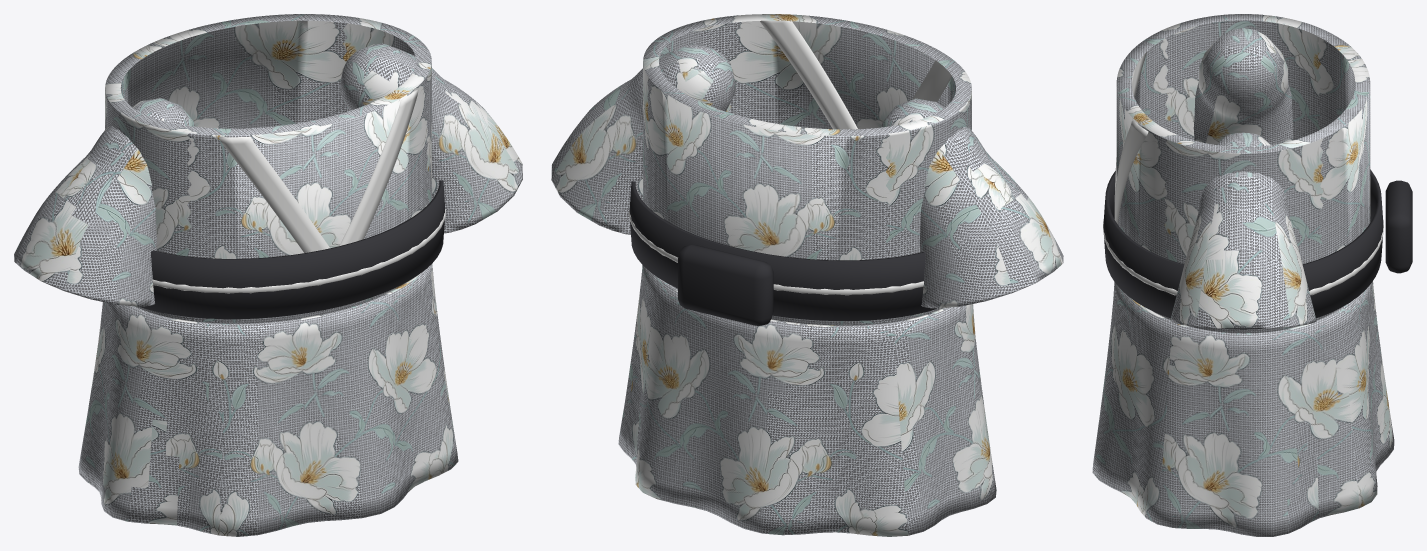
File: kimono1.fbx
3 views of the same model, side by side, from view 1: azimuth 30°, elevation 25°; view 2: azimuth 150°, elevation 25°; view 3: azimuth 270°, elevation 25° (orthographic). The views are drawn at different scales.
Parts seen in each view (by area): view 1: kimono1; view 2: kimono1; view 3: kimono1.
Boxes of the visible parts, left/top/right/bottom form: kimono1: left=14, top=14, right=522, bottom=536; kimono1: left=551, top=14, right=1063, bottom=536; kimono1: left=1092, top=14, right=1412, bottom=536.
Size of the model in its own units: 1.4 by 1.07 by 0.8305.
3 materials, 1 textured.
